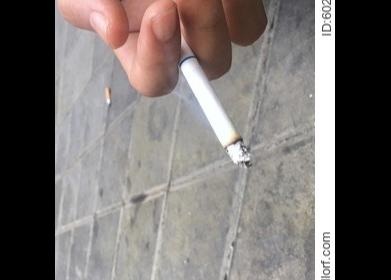Cigarette: (174, 34, 252, 166)
